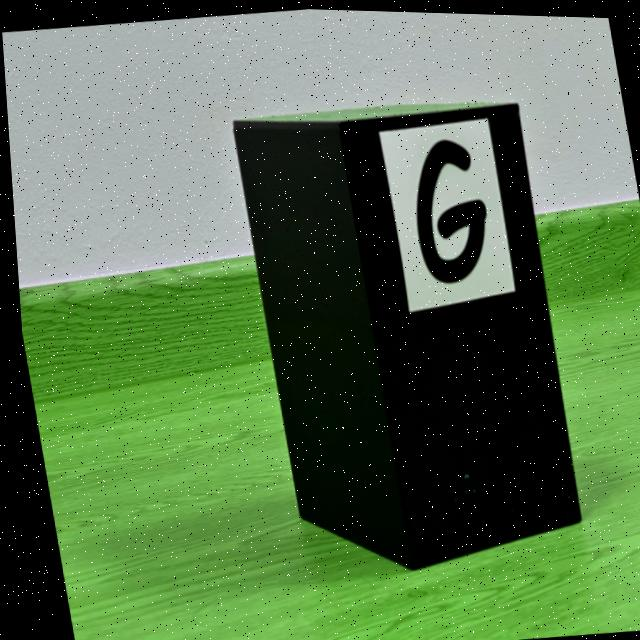G: (413, 137, 483, 280)
